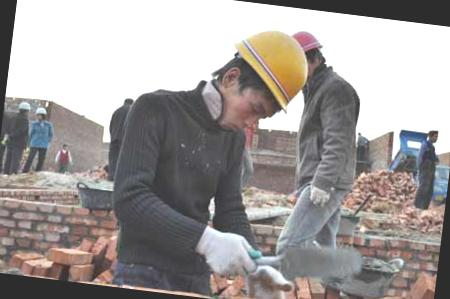no_helmet: (424, 126, 441, 145)
